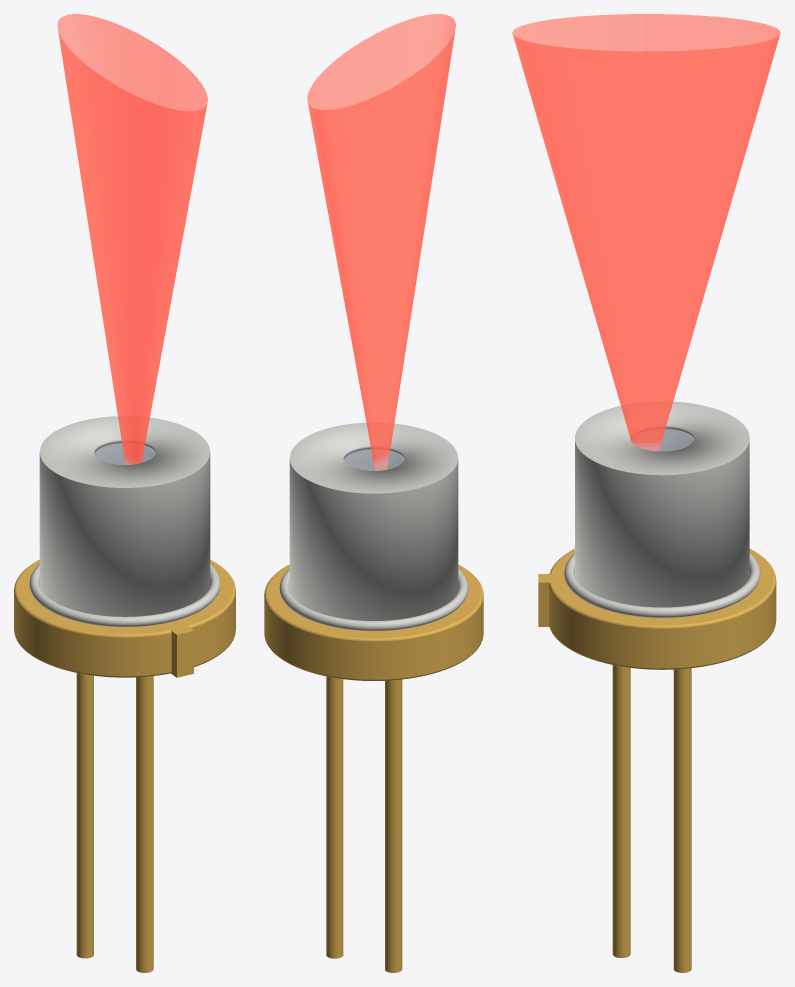
File: to-can.glb
The picture shows the model from 3 angles, left to right: view 1: azimuth 30°, elevation 25°; view 2: azimuth 150°, elevation 25°; view 3: azimuth 270°, elevation 25°; orthographic projection. The views are drawn at different scales.
Parts seen in each view (by area): view 1: beam_diode, capot, embase, broche_COM, broche_PD, capot_levre, detrompeur, fenetre; view 2: beam_diode, capot, embase, broche_PD, broche_LD, capot_levre, fenetre; view 3: beam_diode, capot, embase, broche_LD, broche_COM, capot_levre, fenetre, detrompeur.
Boxes of the visible parts, left/top/right/bottom form: beam_diode: left=57, top=14, right=207, bottom=464; capot: left=39, top=416, right=210, bottom=616; embase: left=14, top=560, right=235, bottom=677; broche_COM: left=136, top=676, right=153, bottom=972; broche_PD: left=76, top=673, right=93, bottom=958; capot_levre: left=29, top=564, right=220, bottom=626; detrompeur: left=170, top=625, right=193, bottom=677; fenetre: left=94, top=442, right=155, bottom=464; beam_diode: left=307, top=14, right=455, bottom=470; capot: left=289, top=422, right=458, bottom=620; embase: left=264, top=564, right=483, bottom=680; broche_PD: left=385, top=679, right=402, bottom=972; broche_LD: left=326, top=676, right=343, bottom=958; capot_levre: left=279, top=569, right=468, bottom=631; fenetre: left=344, top=448, right=403, bottom=470; beam_diode: left=512, top=14, right=780, bottom=451; capot: left=575, top=401, right=749, bottom=607; embase: left=549, top=549, right=776, bottom=669; broche_LD: left=673, top=668, right=691, bottom=972; broche_COM: left=612, top=665, right=630, bottom=957; capot_levre: left=564, top=553, right=760, bottom=617; fenetre: left=633, top=428, right=693, bottom=451; detrompeur: left=538, top=574, right=552, bottom=626.
Size of the model in its own units: 5.6 by 25 by 6.6.
